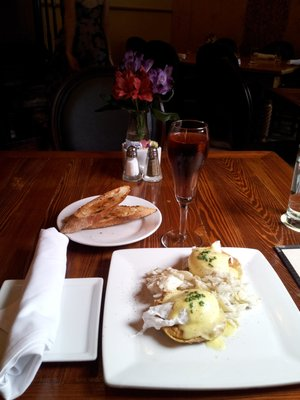pizza: (280, 118, 300, 232)
sandwich: (273, 245, 300, 290)
